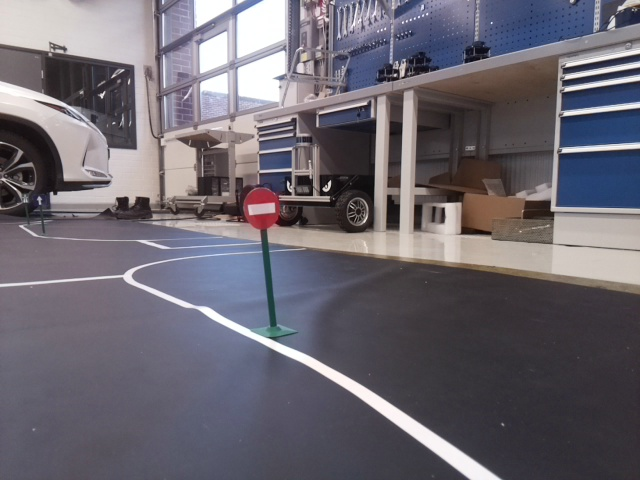NoEntry: (244, 187, 281, 228)
